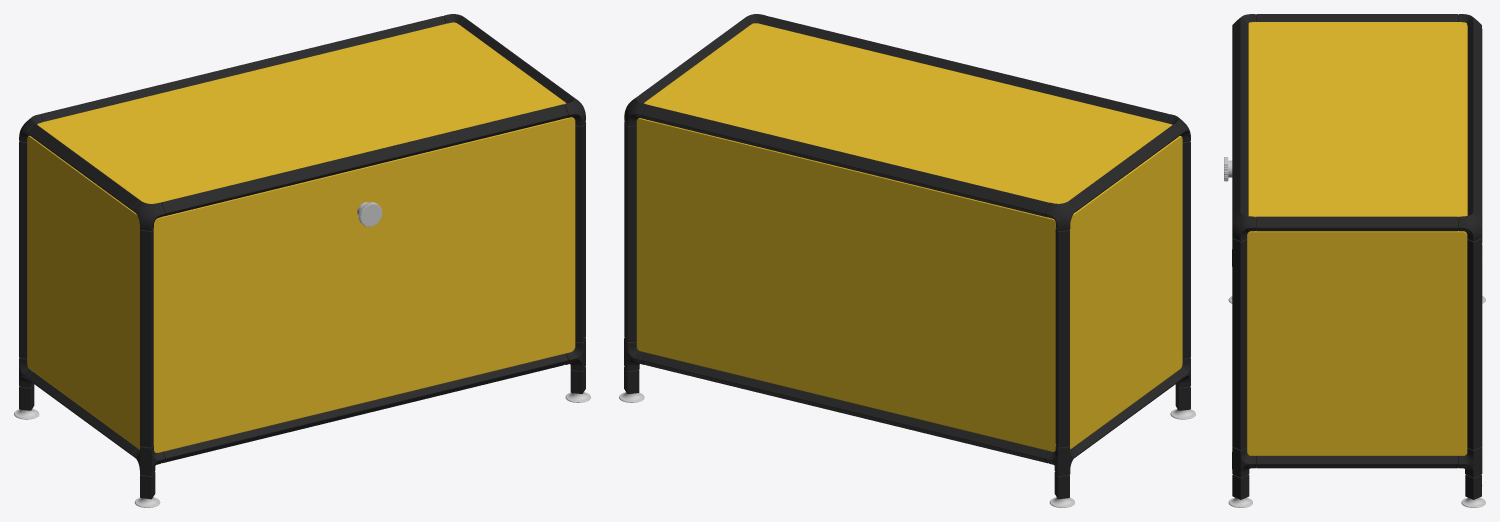
3 renders of one model, left to right at view 1: azimuth 30°, elevation 25°; view 2: azimuth 150°, elevation 25°; view 3: azimuth 270°, elevation 25°, orthographic. The views are drawn at different scales.
Visible parts, largest first — view 1: 729x329x374; view 2: 729x329x374; view 3: 729x329x374.
Part boxes in pixels (<box>): 729x329x374: <box>14,14,590,507</box>; 729x329x374: <box>619,14,1195,507</box>; 729x329x374: <box>1224,14,1485,507</box>.
Size of the model in its own units: 0.8189 by 0.5133 by 0.4257.
